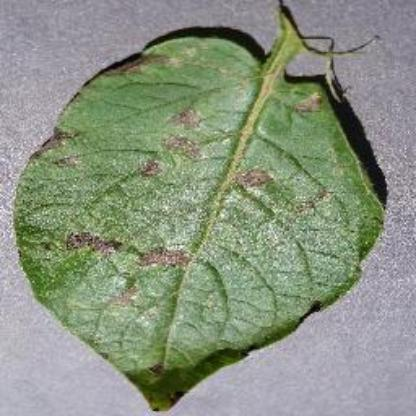Early-Blight: (11, 8, 393, 408)
